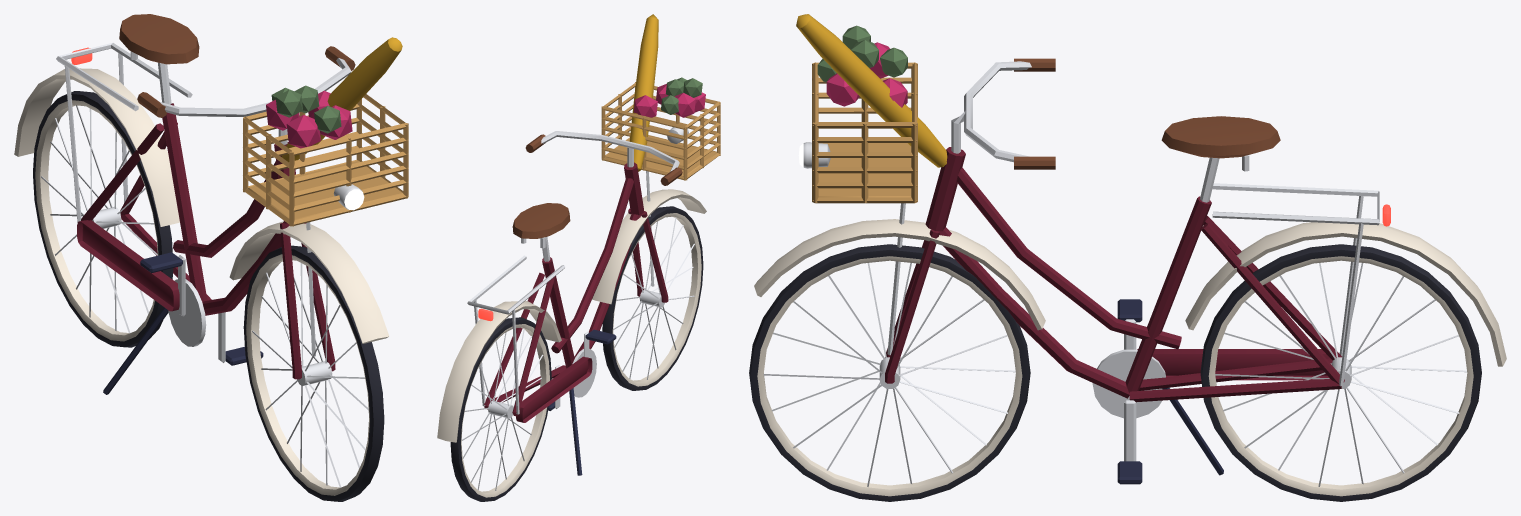
File: bicycle.glb
3 renders of one model, left to right at view 1: azimuth 30°, elevation 25°; view 2: azimuth 150°, elevation 25°; view 3: azimuth 270°, elevation 25°, orthographic. The views are drawn at different scales.
Parts seen in each view (by area): view 1: handlebar, frame, wheel_f, wheel_r, crank; view 2: frame, handlebar, wheel_f, wheel_r, crank; view 3: frame, handlebar, wheel_f, wheel_r, crank.
Part boxes in pixels (x1,y1,x2,y2): handlebar: [137, 37, 408, 379]; frame: [14, 14, 295, 394]; wheel_f: [243, 245, 384, 501]; wheel_r: [33, 91, 173, 347]; crank: [140, 252, 263, 365]; frame: [437, 162, 643, 475]; handlebar: [525, 14, 720, 304]; wheel_f: [602, 206, 703, 390]; wheel_r: [450, 317, 551, 501]; crank: [548, 329, 616, 410]; frame: [925, 116, 1506, 475]; handlebar: [754, 14, 1055, 383]; wheel_f: [749, 244, 1030, 501]; wheel_r: [1200, 244, 1481, 501]; crank: [1092, 299, 1165, 484].
Size of the model in its own units: 0.594 by 1.35 by 1.83.
Materials: 3 (3 with a texture image).
